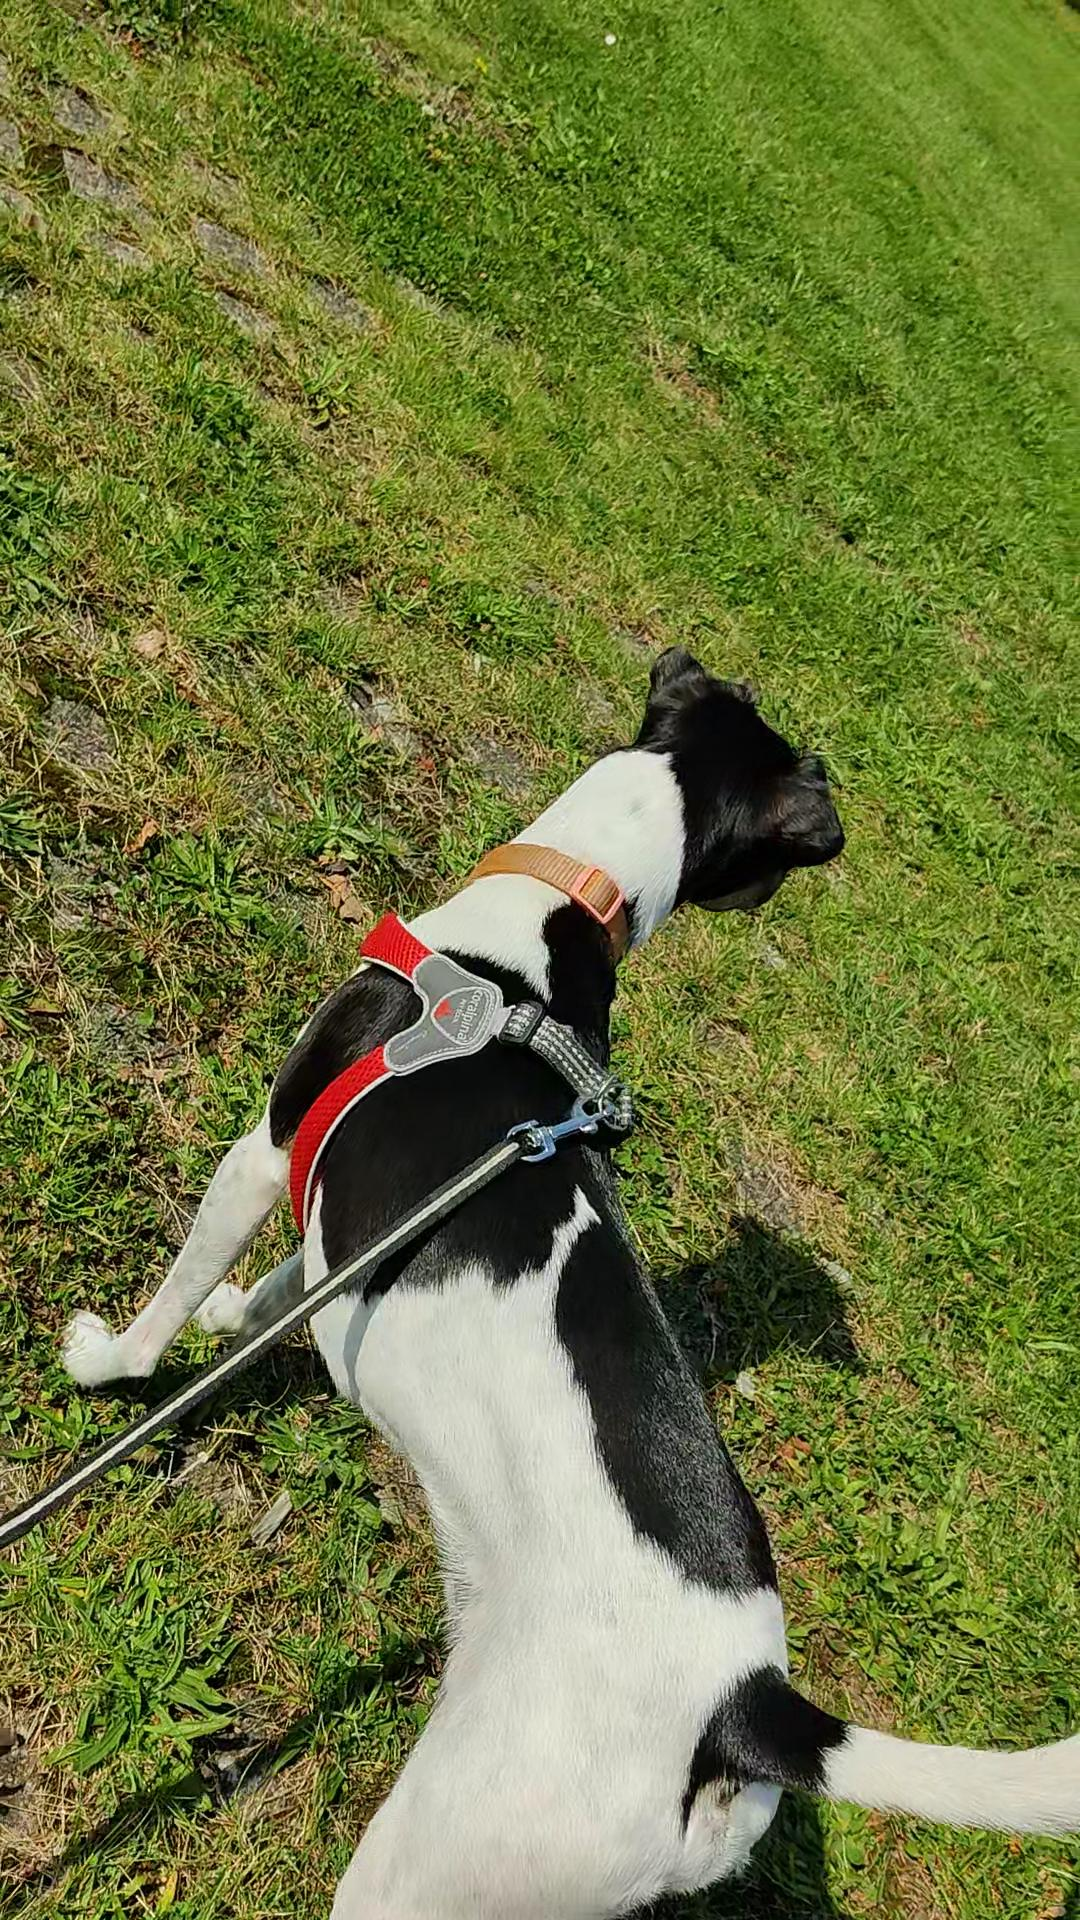Dog: (29, 633, 1079, 1919)
